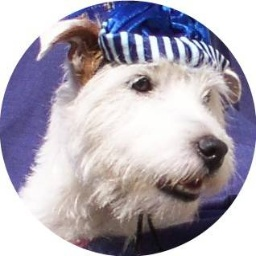dog: (31, 26, 244, 236)
